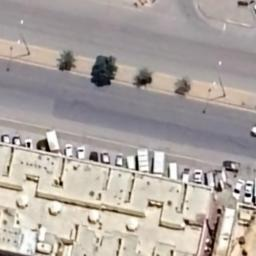sedan: (232, 178, 244, 200), (244, 181, 254, 202), (194, 170, 202, 184), (90, 152, 98, 162), (66, 144, 72, 156), (116, 154, 122, 166), (2, 134, 9, 144), (25, 139, 32, 149), (78, 148, 84, 158), (102, 154, 108, 164), (250, 126, 256, 135), (14, 137, 20, 145)
truck: (44, 130, 60, 152), (152, 150, 164, 176), (138, 148, 149, 172), (168, 163, 178, 179), (128, 156, 136, 170), (182, 174, 190, 182)
